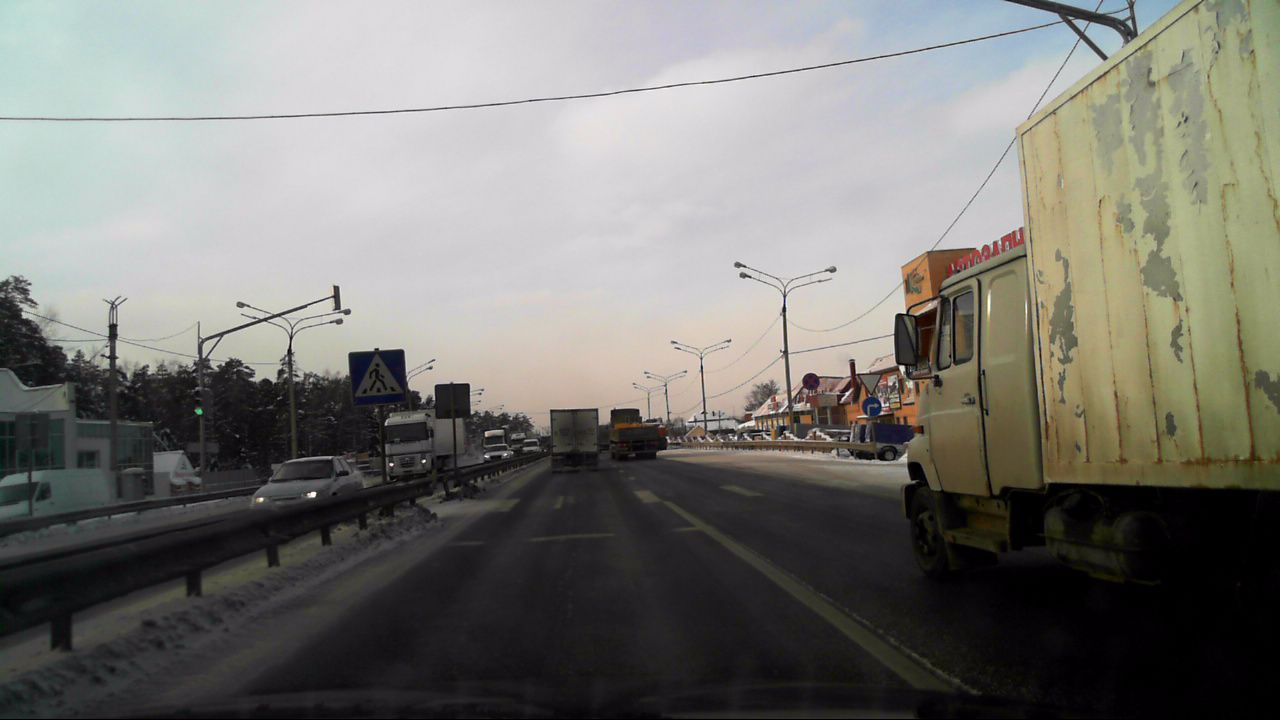No Parking: (802, 372, 820, 390)
